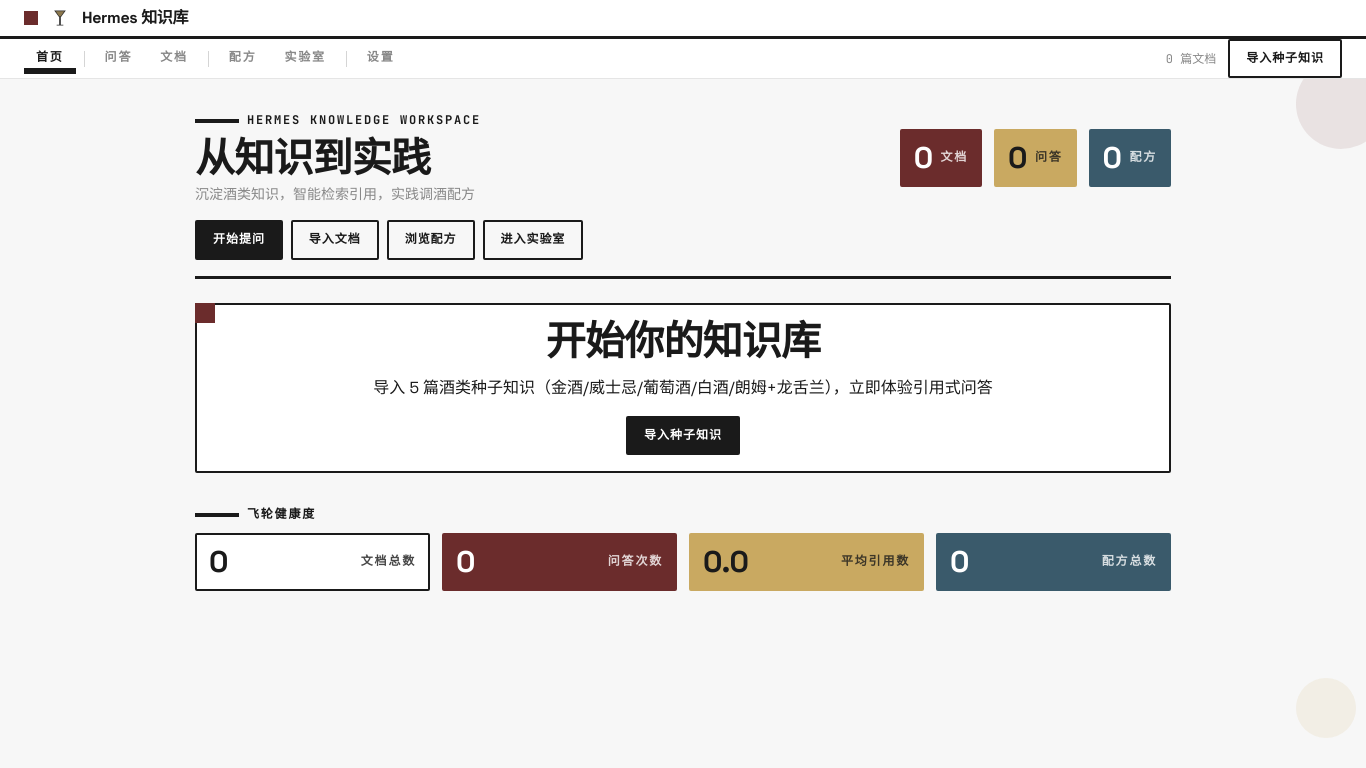
Test: 产品重构：分组导航与 IA › 点击「文档」切换到 DocumentList
Expected: the text "Hermes 知识库" is shown, [82, 9, 188, 27]
What coordinates should you click on to do the following:
click the link "文档"
I would click on:
 (174, 56)
Its box is [160, 48, 188, 64].
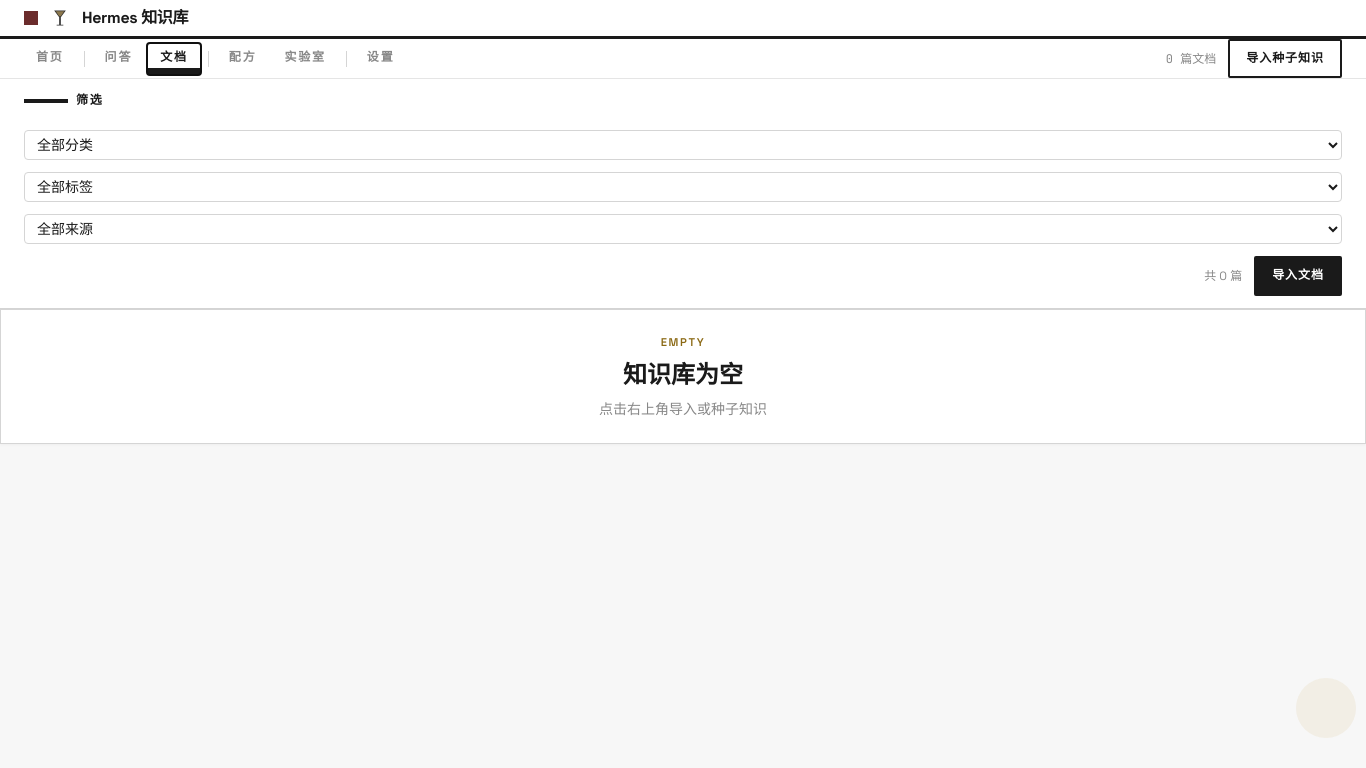
Expected: the text "知识库为空" is shown, [623, 360, 743, 390]
